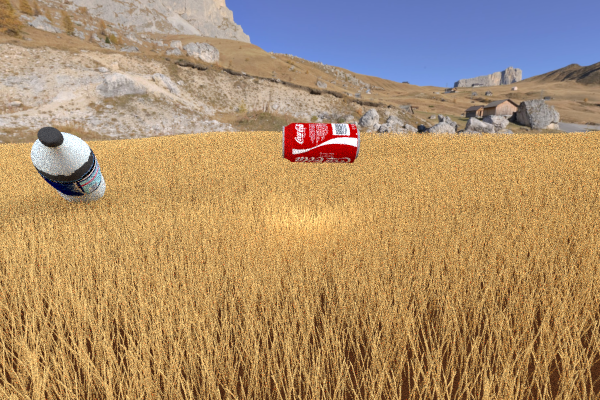Plastic Bottle: (30, 126, 105, 205), (282, 122, 360, 163), (299, 125, 329, 143)
